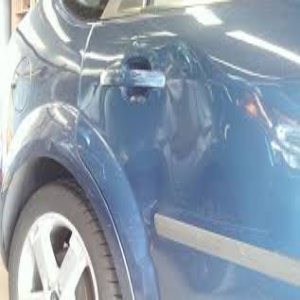door_scratch: (52, 35, 300, 146)
